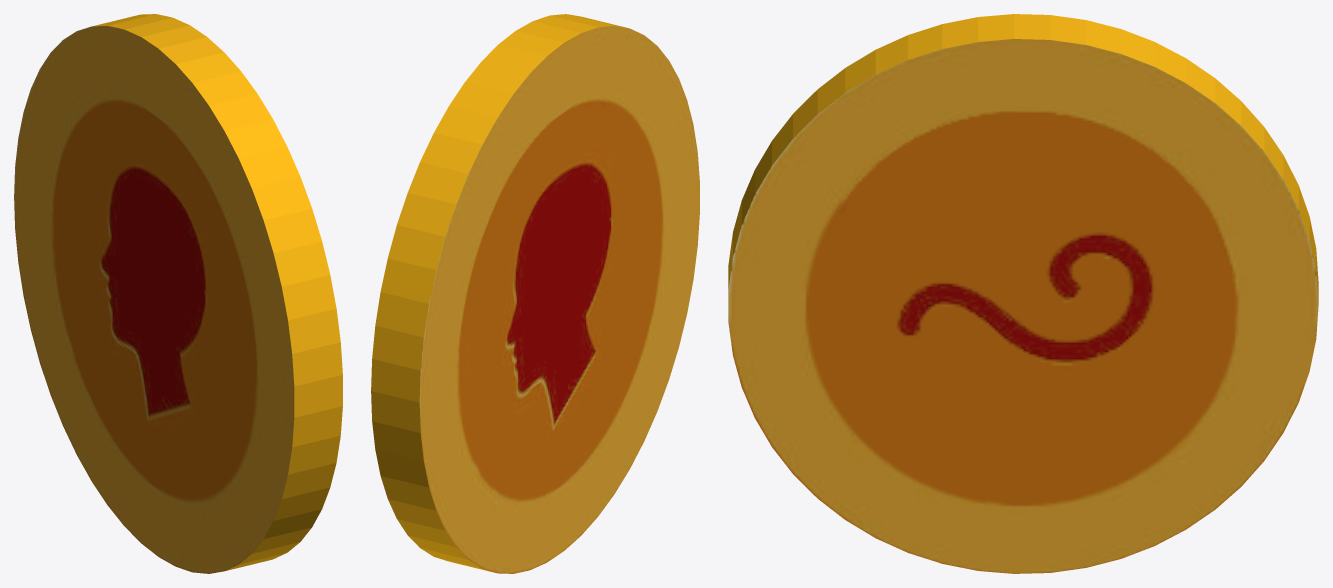
File: goldencoin.glb
3 views of the same model, side by side, from view 1: azimuth 30°, elevation 25°; view 2: azimuth 150°, elevation 25°; view 3: azimuth 270°, elevation 25° (orthographic). The views are drawn at different scales.
Visible parts, largest first — view 1: Cylinder; view 2: Cylinder; view 3: Cylinder.
Boxes of the visible parts, x1=… form: Cylinder: x1=14, y1=14, x2=342, y2=573; Cylinder: x1=371, y1=14, x2=699, y2=573; Cylinder: x1=728, y1=14, x2=1318, y2=573.
Bounding box in the file's own units: 0.2 × 2 × 2.
3 materials, 2 textured.
